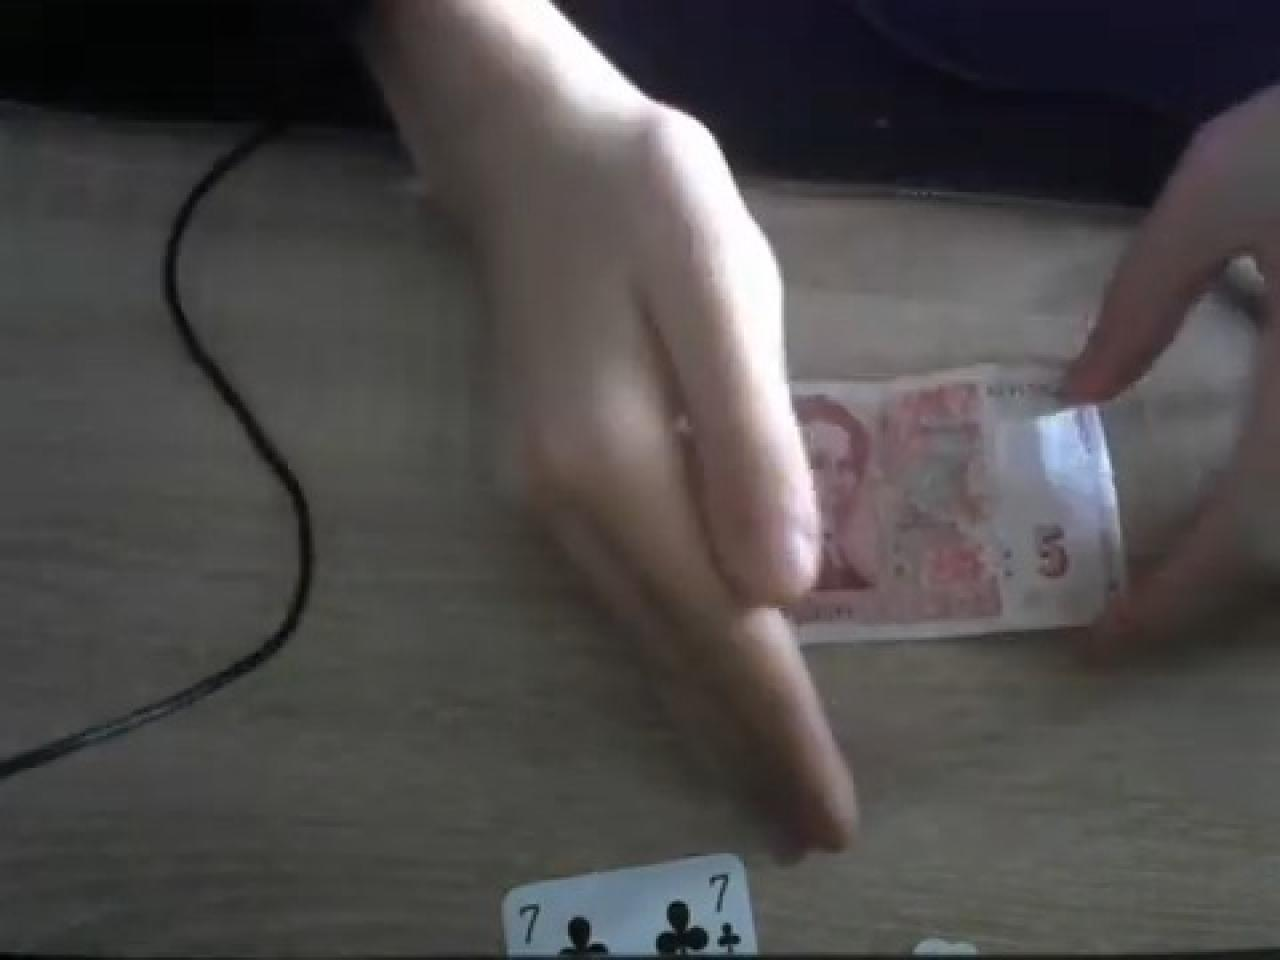5leva: (789, 363, 1131, 648)
